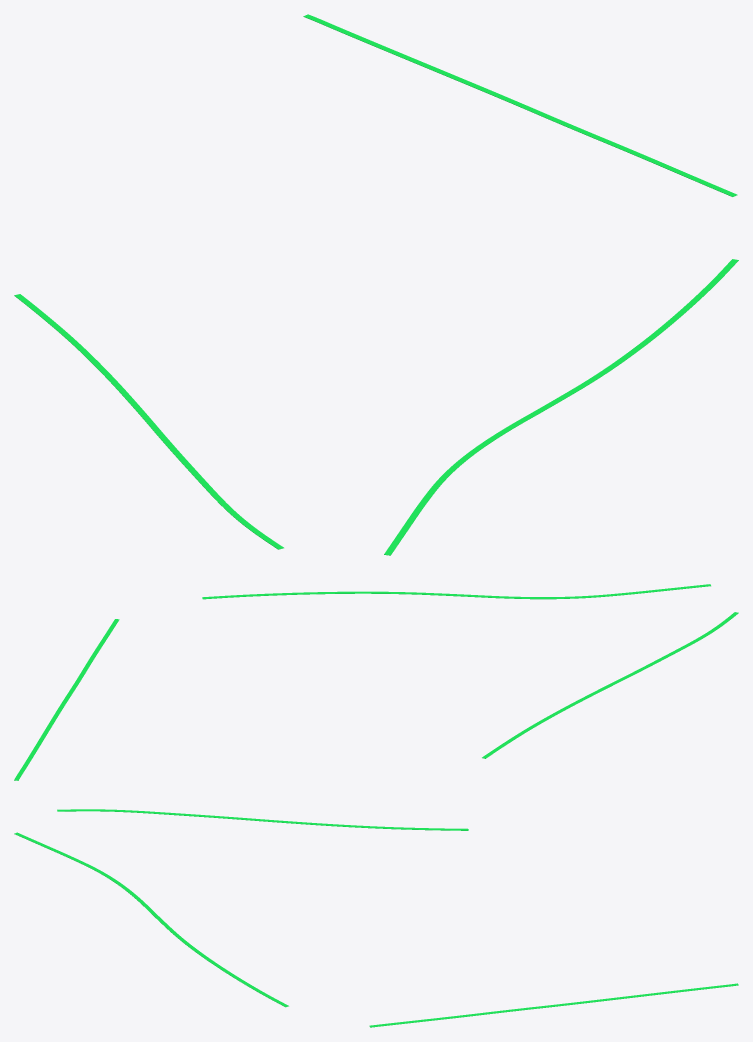
Rendered from RedBullRingDrs.glb.
The picture shows the model from 3 angles, top to bottom: view 1: azimuth 30°, elevation 25°; view 2: azimuth 150°, elevation 25°; view 3: azimuth 270°, elevation 25°; orthographic projection. The views are drawn at different scales.
Parts seen in each view (by area): view 1: DrsStrip_1, DrsStrip_2, DrsStrip_3; view 2: DrsStrip_1, DrsStrip_2, DrsStrip_3; view 3: DrsStrip_1, DrsStrip_2, DrsStrip_3.
Boxes of the visible parts, x1,y1,x2,y2 form: DrsStrip_1: (384, 259, 738, 555); DrsStrip_2: (14, 294, 283, 549); DrsStrip_3: (303, 14, 737, 196); DrsStrip_1: (202, 584, 710, 599); DrsStrip_2: (482, 612, 738, 758); DrsStrip_3: (14, 619, 119, 780); DrsStrip_1: (14, 832, 288, 1007); DrsStrip_2: (57, 809, 468, 830); DrsStrip_3: (369, 983, 738, 1027).
Size of the model in its own units: 16.04 by 0.006 by 22.53.
